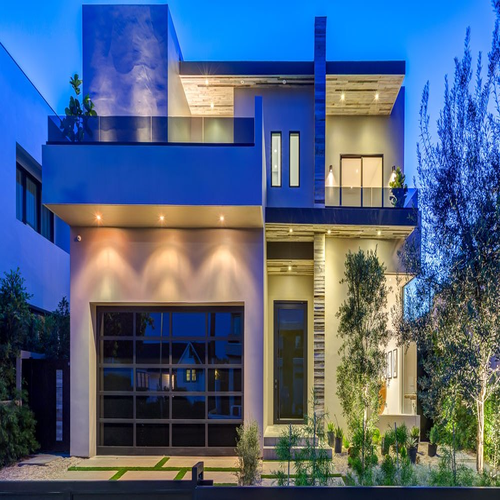Building House: (31, 2, 437, 473)
